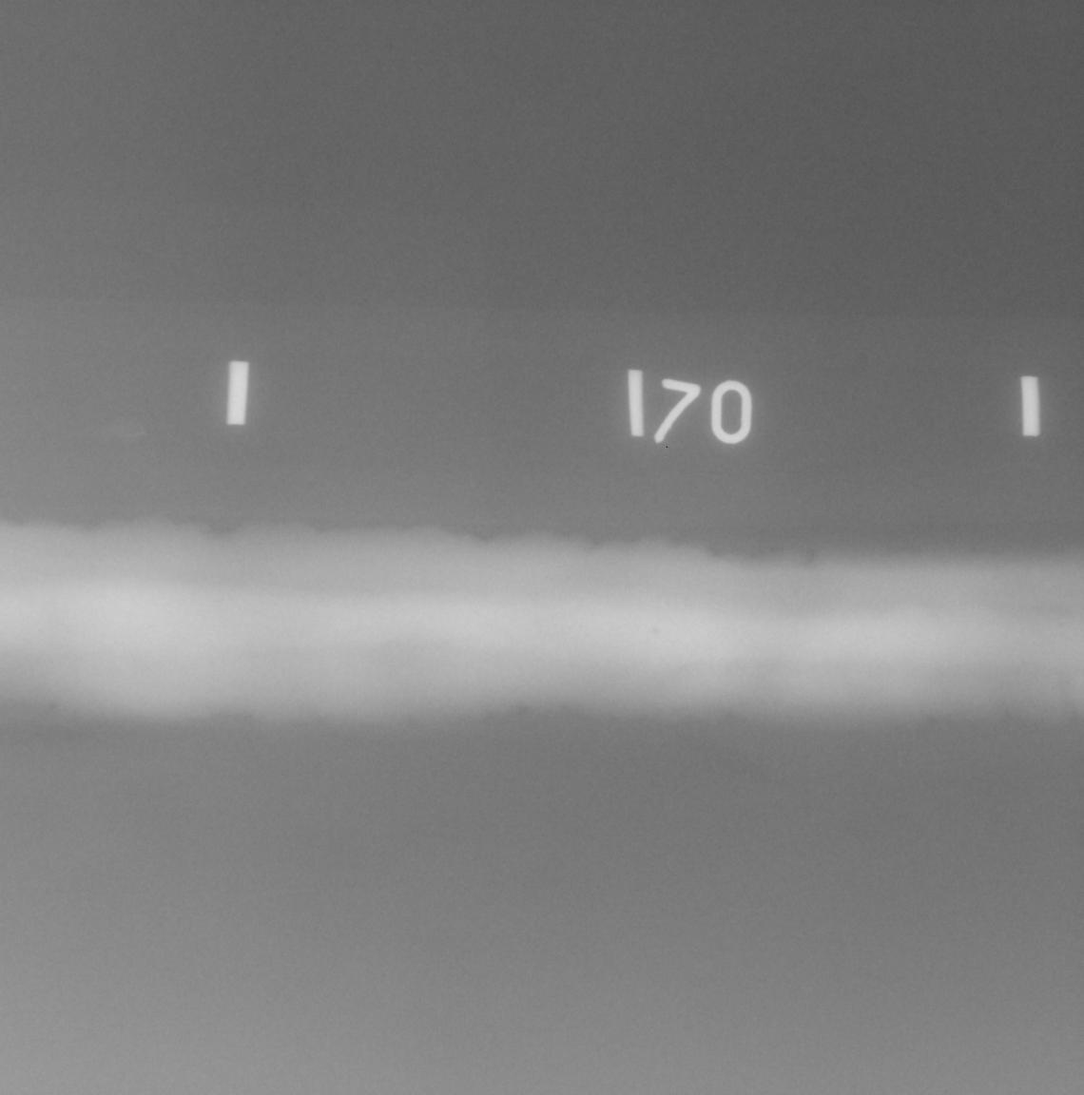Inclusion: (1060, 622, 1064, 627)
Pore/Porosity: (651, 628, 661, 635)
